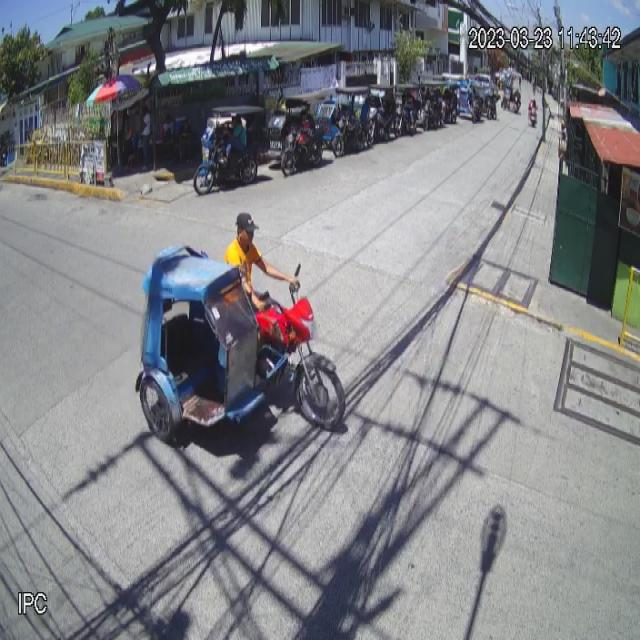Tricycle: (134, 242, 347, 443)
